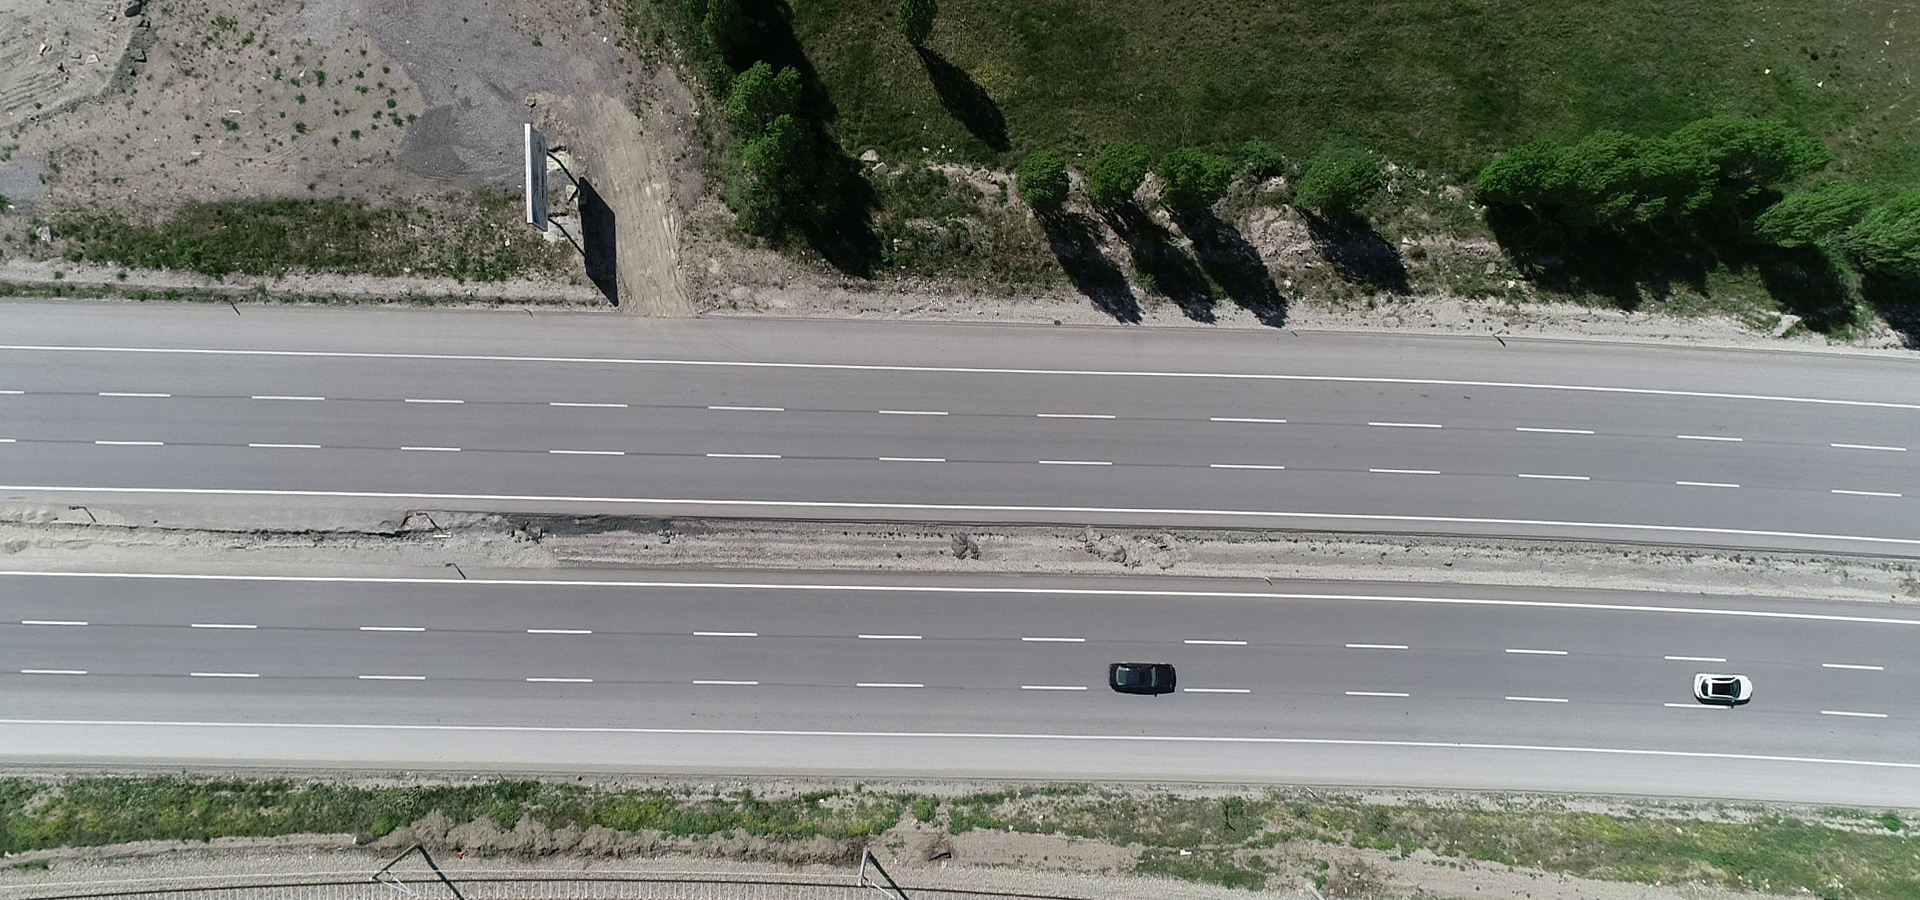araba: (1696, 667, 1753, 711), (1107, 656, 1176, 692)
